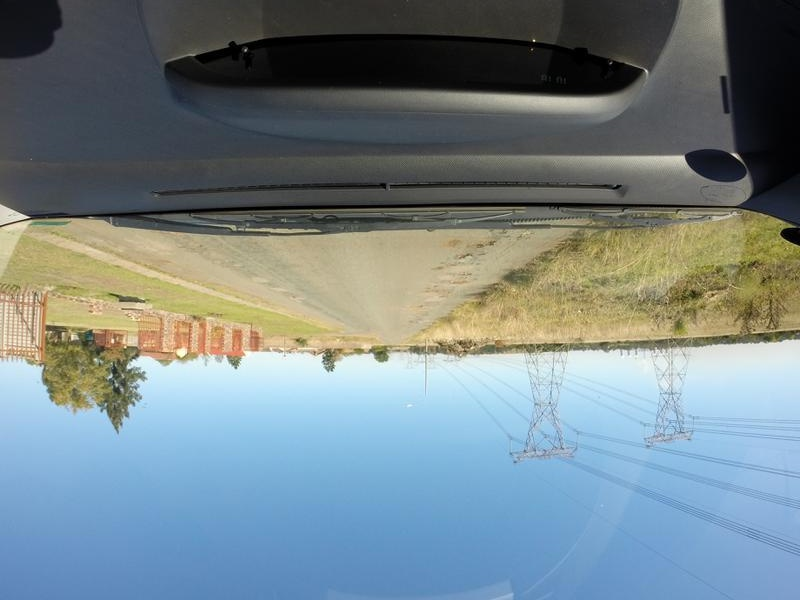pothole: (467, 235, 493, 248), (427, 263, 453, 271), (423, 287, 438, 295), (444, 279, 466, 284), (447, 238, 456, 249), (452, 252, 471, 257), (516, 232, 525, 242), (471, 253, 485, 258)
